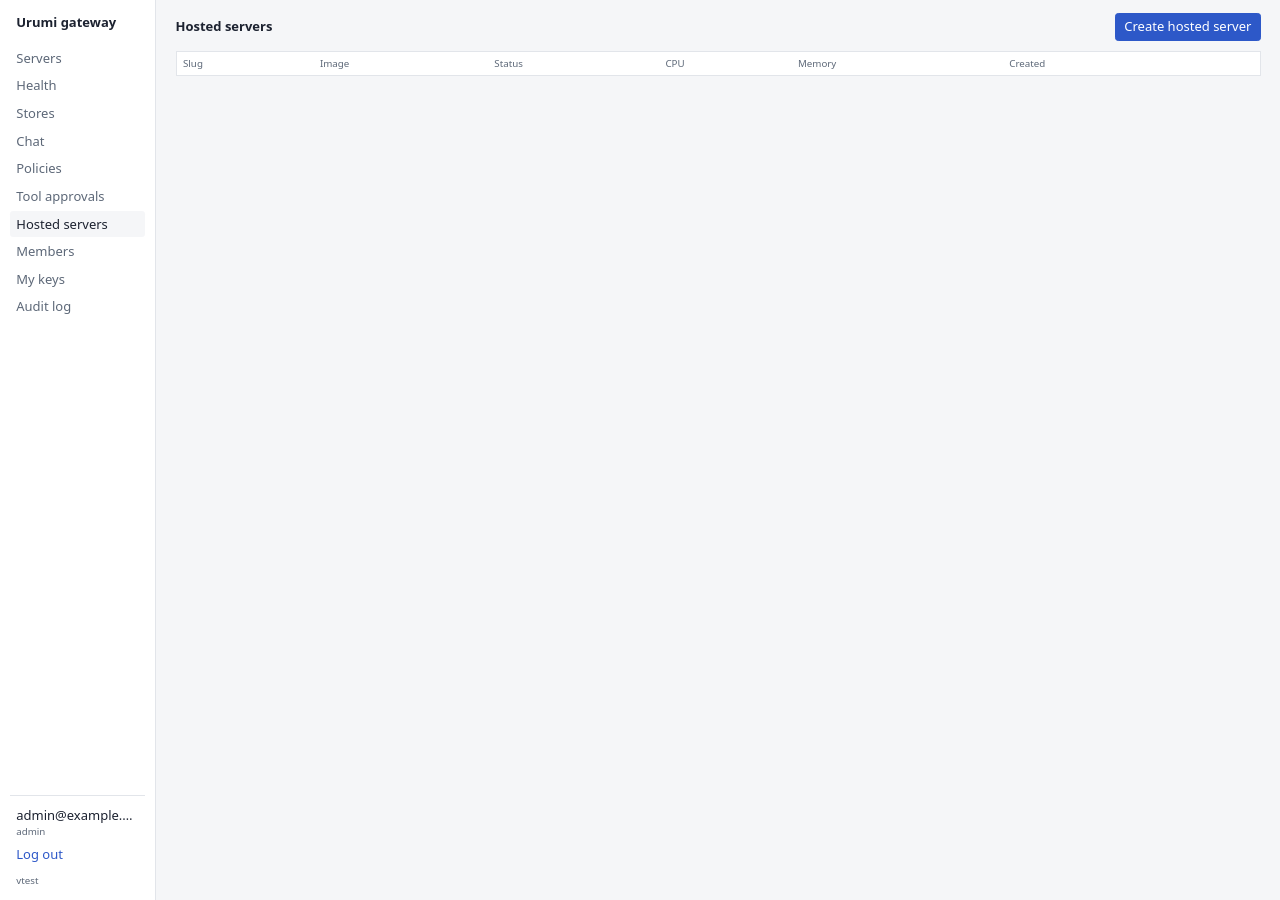
Test: Hosted servers page through the real routes › secret env inputs are password fields and are cleared after submit
The width and height of the screenshot is (1280, 900).
Click the button "Create hosted server" at [1188, 27], box [1115, 13, 1260, 41]
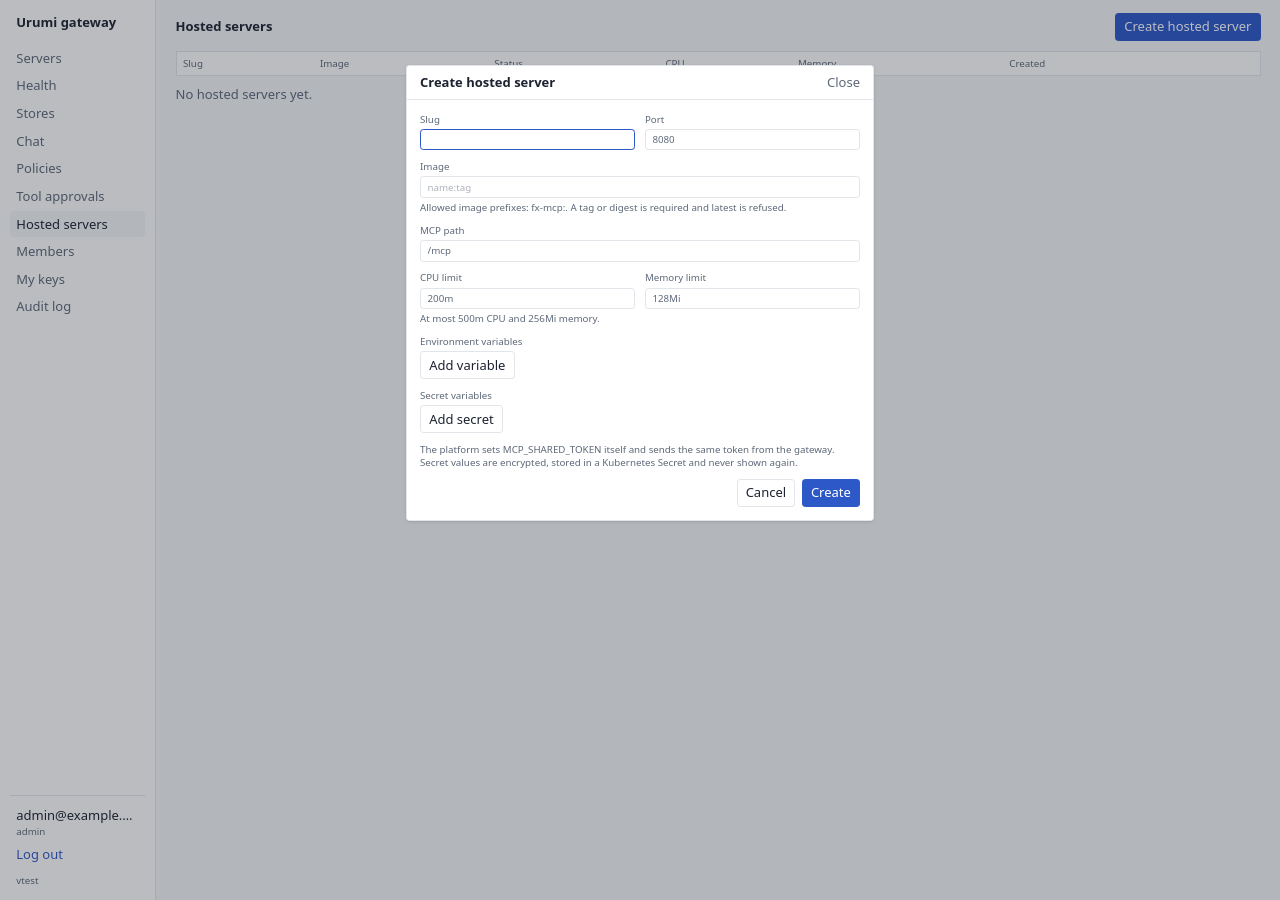
Type "fx2" into the field labelled "Slug" at [528, 140], box [420, 129, 635, 150]
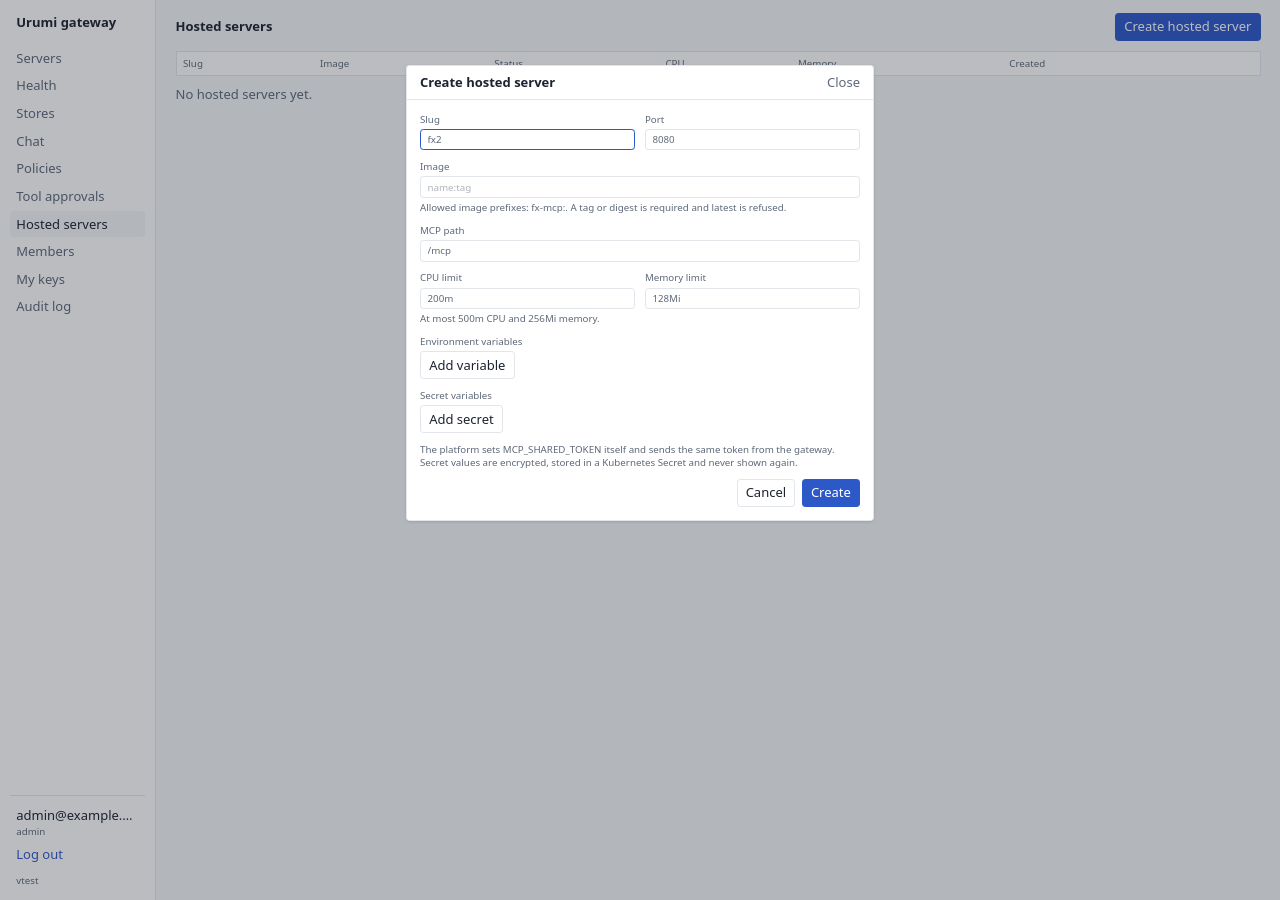
Type "fx-mcp:dev" into the field labelled "Image" at [640, 187], box [420, 176, 860, 198]
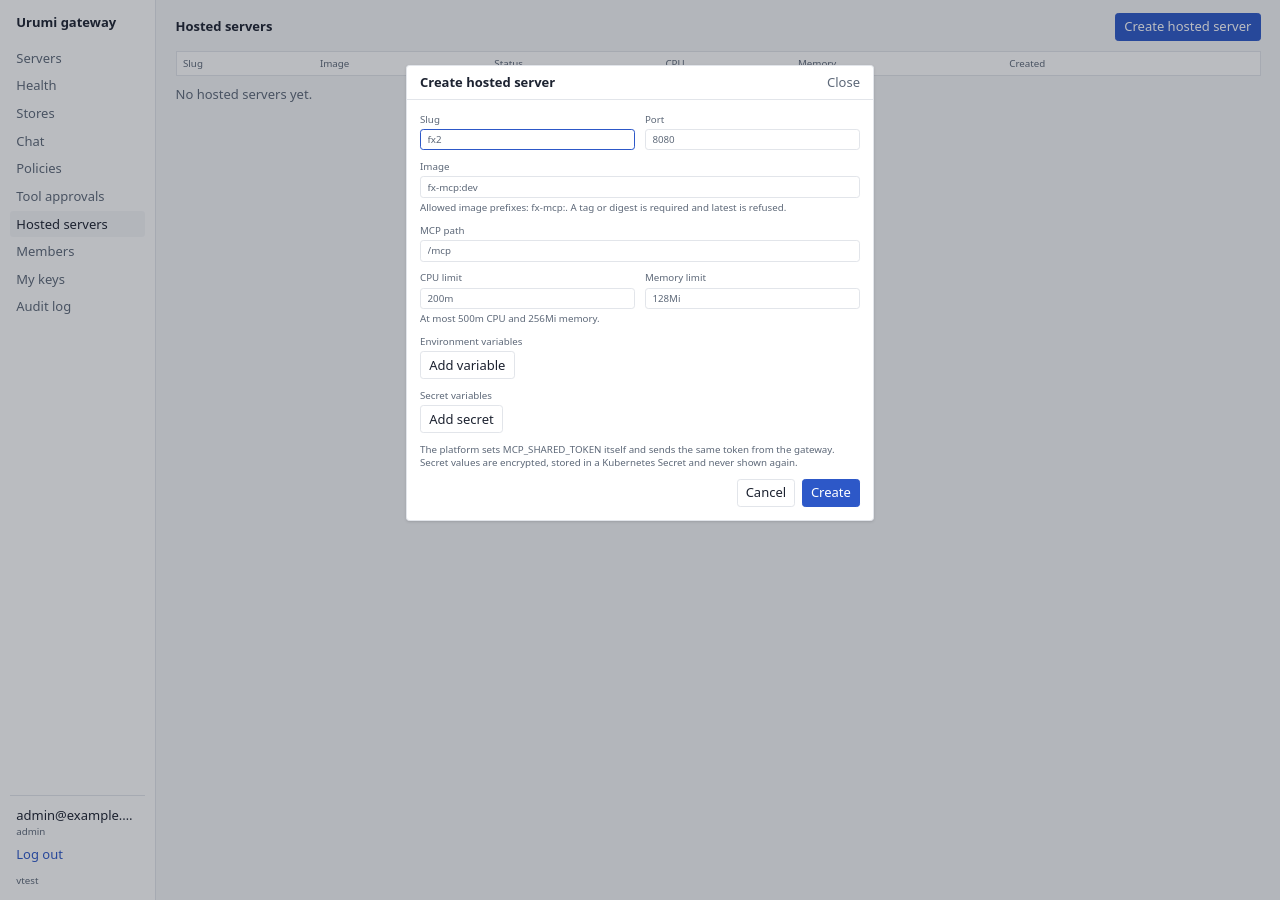
Click the button "Add secret" at [461, 419], box [420, 405, 503, 433]
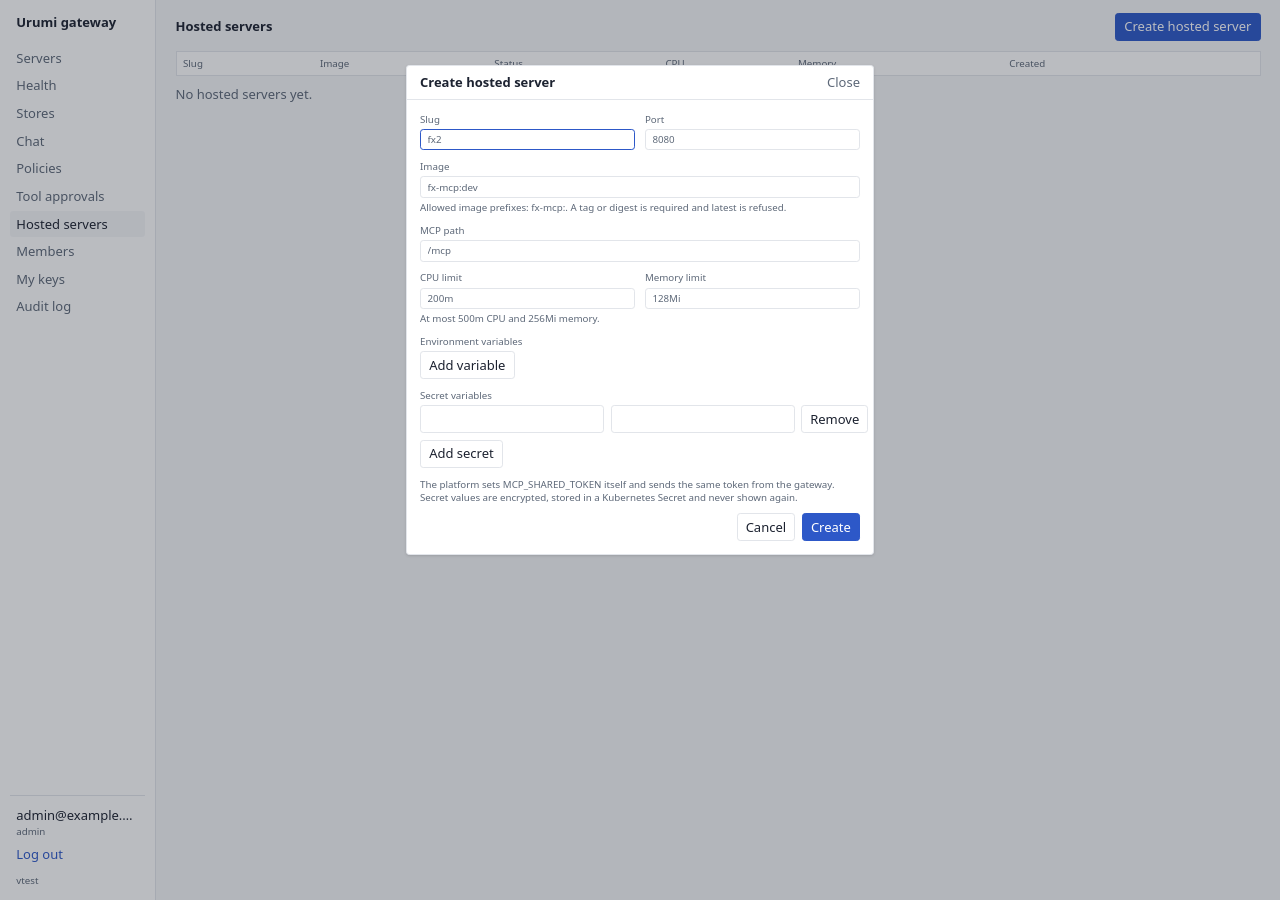
Type "hunter2" into the password field named "Secret value 1" at [702, 419], box [610, 405, 794, 433]
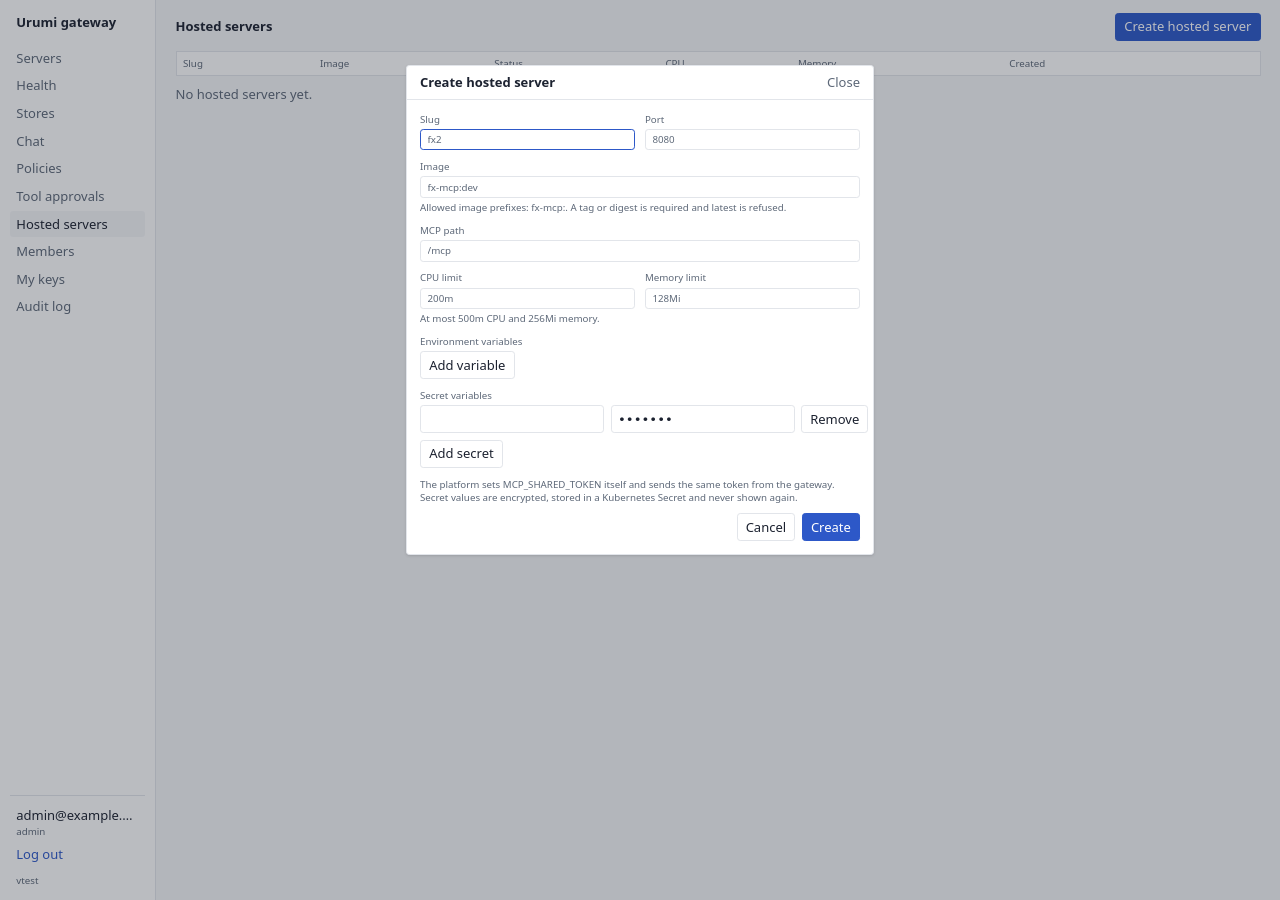
Click the button "Create" at [831, 527], box [802, 513, 860, 541]
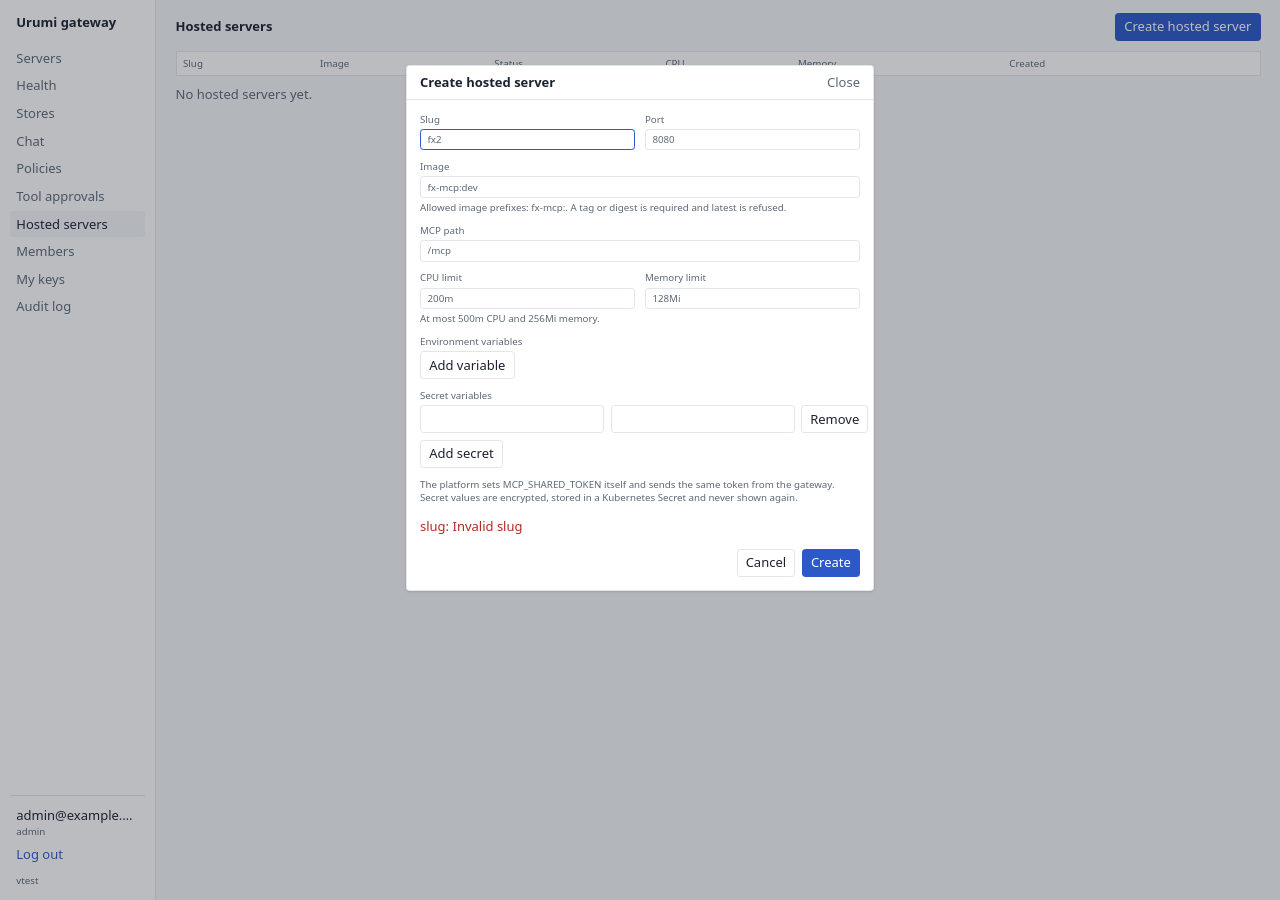
Now the text "slug: Invalid slug" is shown, box [420, 516, 522, 534]
Now the password field named "Secret value 1" is empty, box [610, 405, 794, 433]
